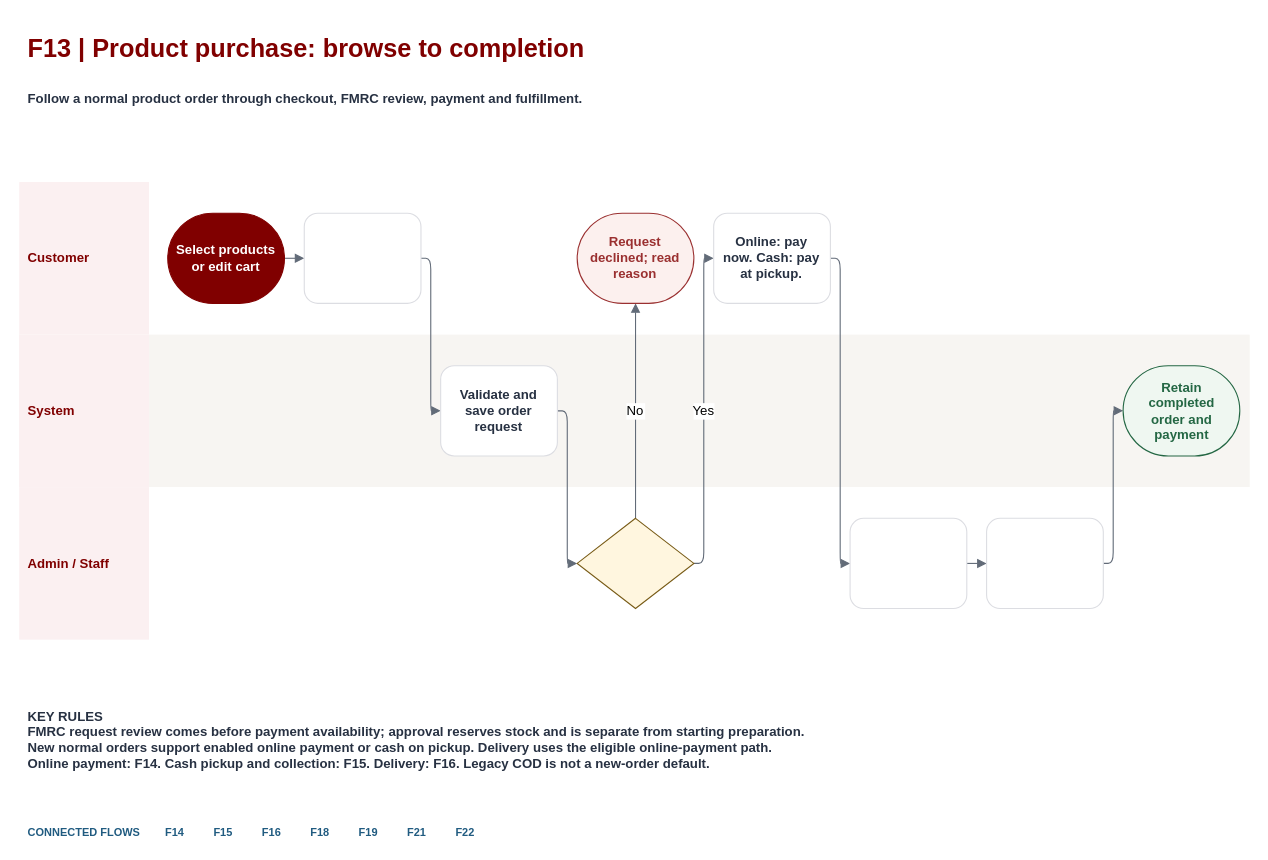
Image size: 1268x860. Some labels were removed from this diagram. The box of each missing label's shape, as (x1, y1, x2, y2) in pixels:
Approve request?: (576, 517, 694, 609)
Complete pickup or delivery: (985, 517, 1103, 609)
Select fulfillment, payment and terms: (303, 212, 421, 303)
Start preparation when eligible: (849, 517, 967, 609)
